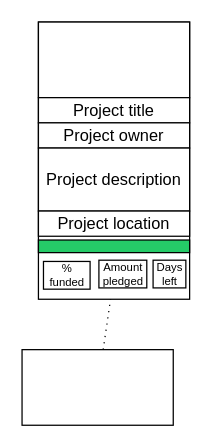
Image size: 212x447. Some labels were removed from this diagram. Here are the shapes that lost their labels. From the top down, the centre of each, then its label:
point (113, 59): Project image
point (97, 386): Mini project component
